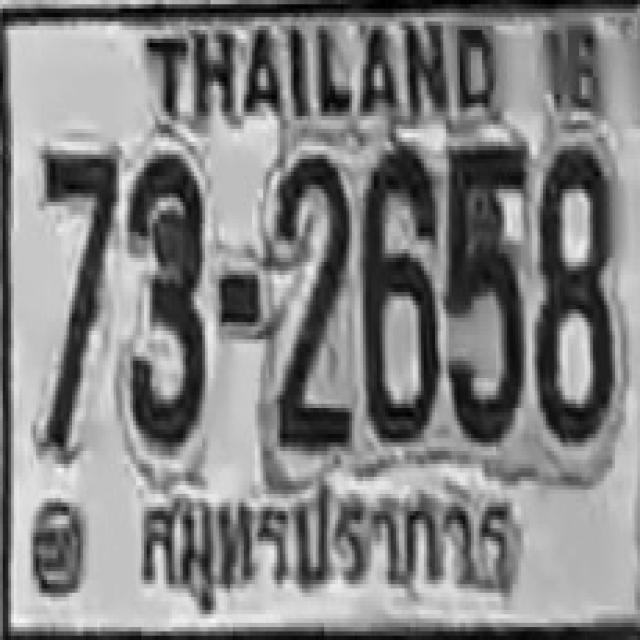2: (268, 153, 350, 453)
3: (125, 152, 205, 449)
5: (446, 142, 526, 442)
6: (362, 144, 439, 440)
7: (37, 148, 118, 458)
8: (535, 144, 615, 444)
SamutPrakan: (138, 476, 526, 614)
